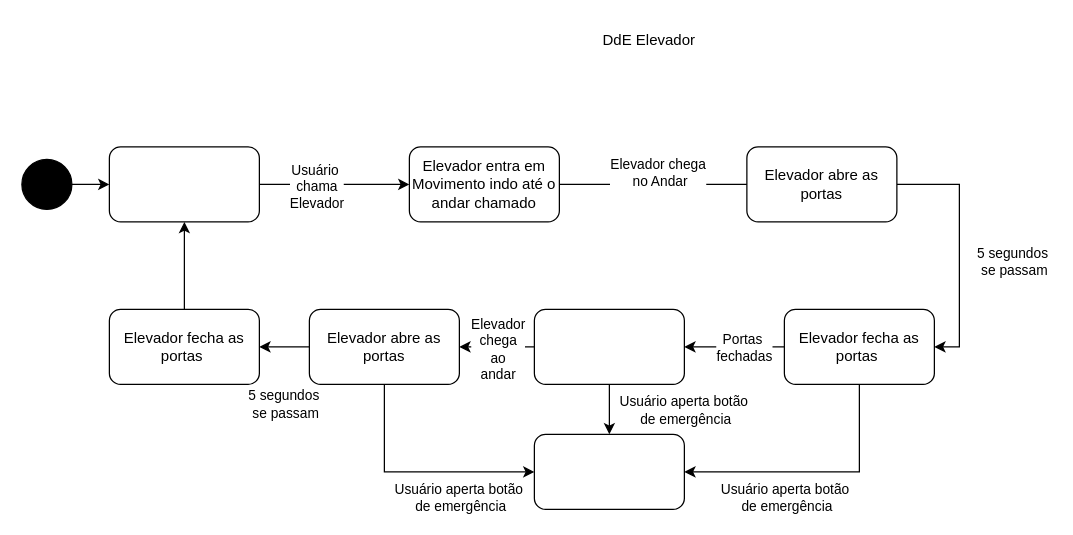
Image size: 1073x535. Some labels were removed from this diagram. Each missing label, with the centre of its shape:
"Elevador aguarda chamada" goes at [183,184].
"Elevador dirige-se ao Andar selecionado pelo usuário" goes at [608,346].
"Elevador entra em Estado de Emergência" goes at [608,471].
